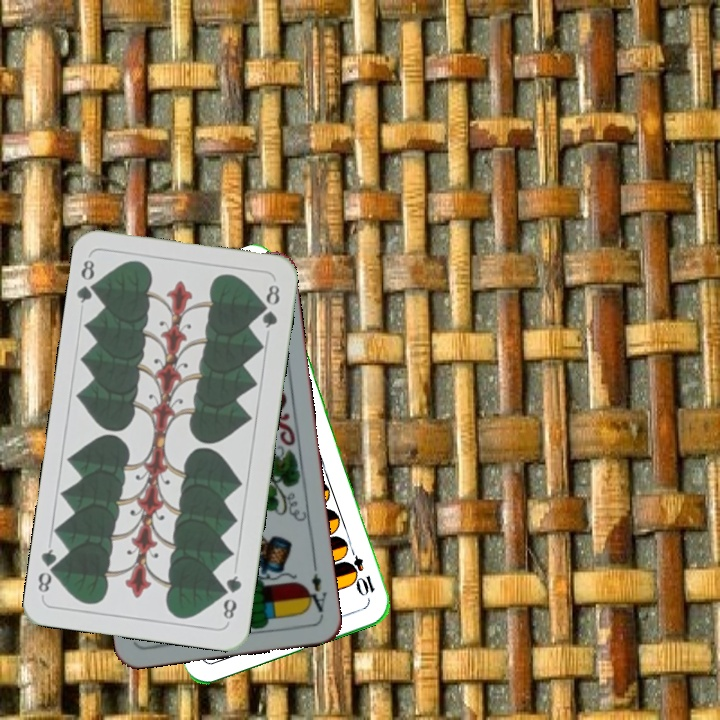E10: (342, 543, 378, 599)
EA: (301, 559, 330, 618)
G8: (73, 255, 102, 306), (218, 571, 244, 622)
